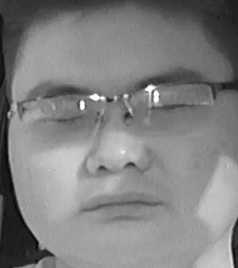blink: (154, 99, 187, 114)
glass: (123, 81, 214, 136), (19, 95, 101, 142)
mouth: (83, 188, 160, 221)
